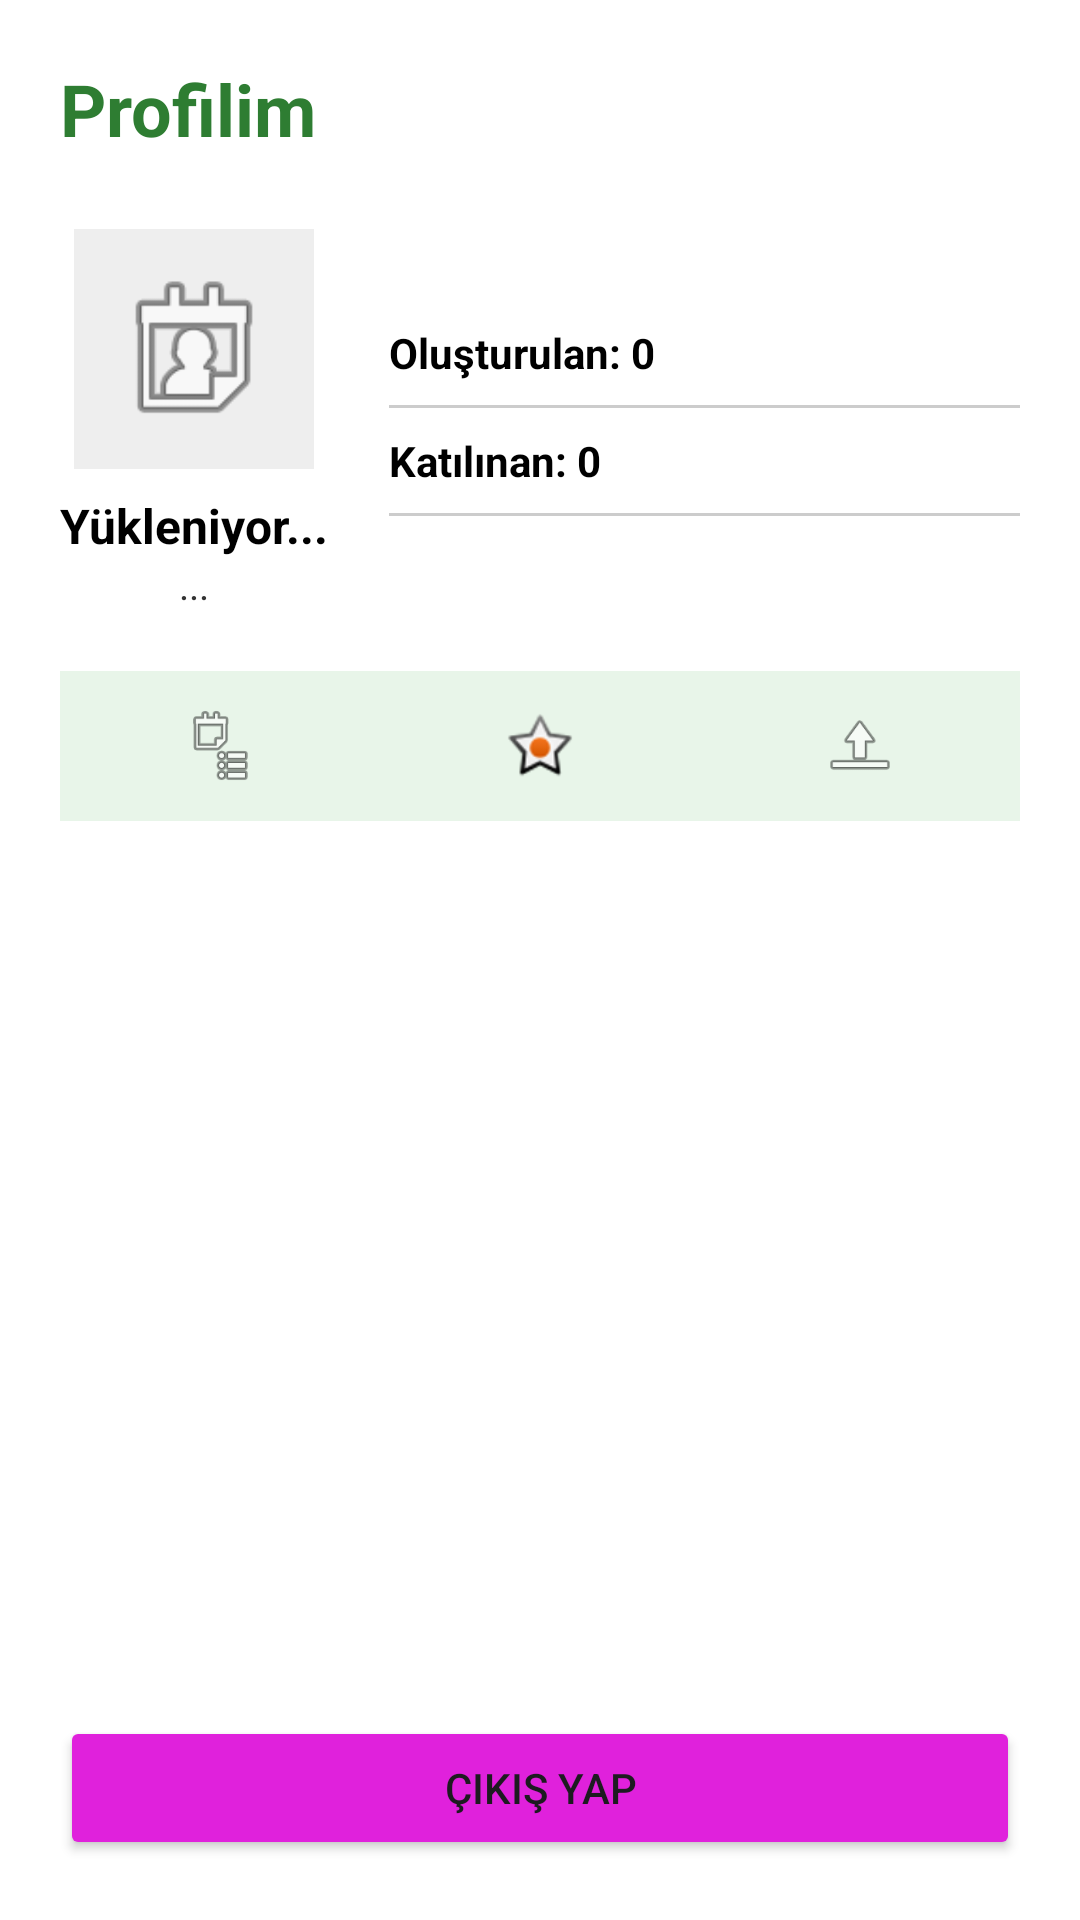

Point at icon controls on the screen. Image size 1080x1920, points as point (x, y).
calendar: point (194, 349)
star on: point (540, 745)
